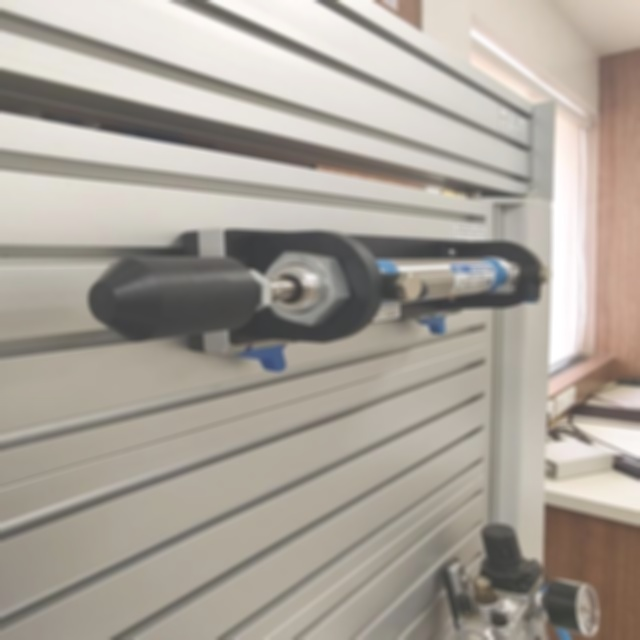double acting pneumatic cylinder: (84, 226, 552, 380)
